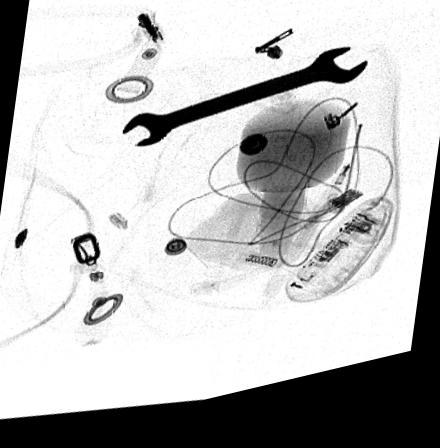Wrench: (122, 61, 369, 153)
